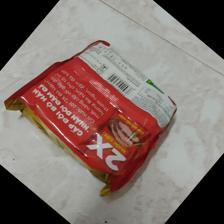3mien: (4, 39, 179, 199)
